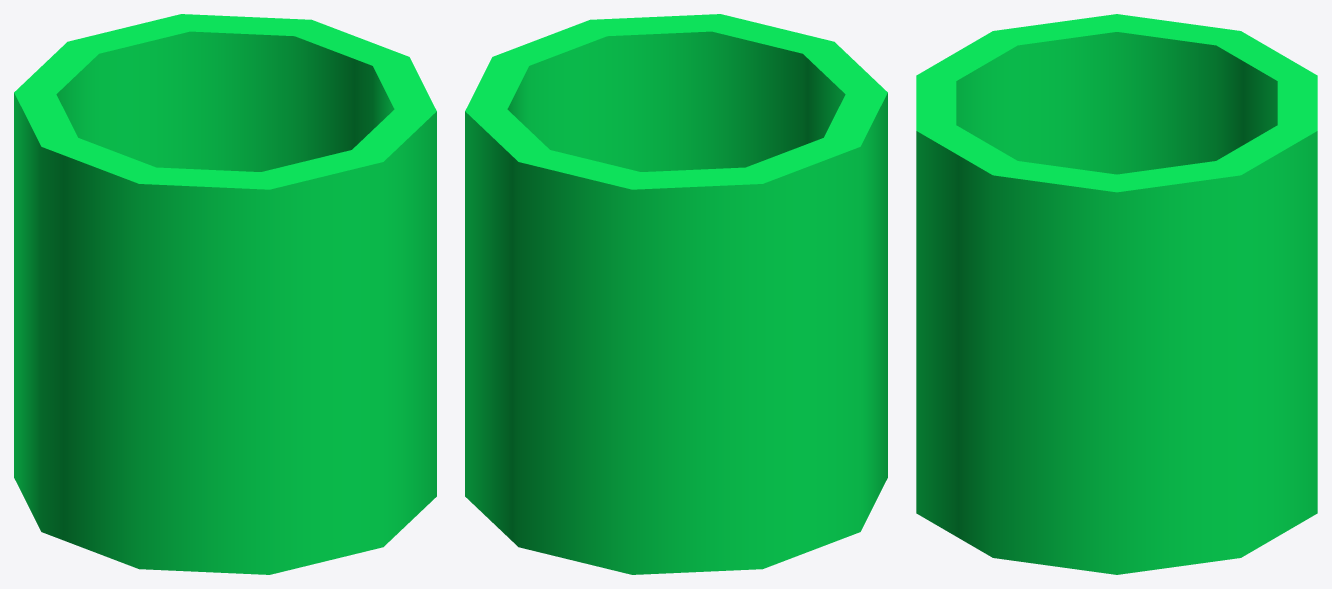
3 views of the same model, side by side, from view 1: azimuth 30°, elevation 25°; view 2: azimuth 150°, elevation 25°; view 3: azimuth 270°, elevation 25° (orthographic).
Visible parts, largest first — view 1: Tube; view 2: Tube; view 3: Tube.
Boxes of the visible parts, bbox=[...] form: Tube: bbox=[14, 14, 436, 574]; Tube: bbox=[465, 14, 887, 574]; Tube: bbox=[916, 14, 1317, 574].
Bounding box in the file's own units: 0.1 × 0.1 × 0.0951.
